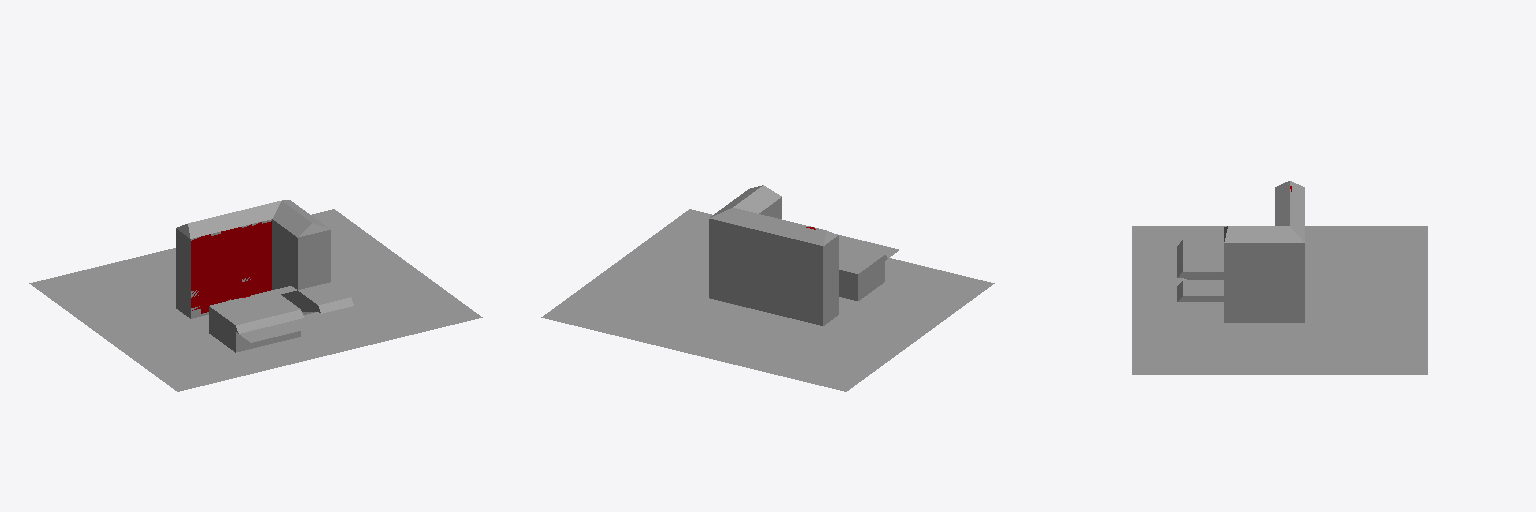
The model's file is unaltre.obj.
3 views of the same model, side by side, from view 1: azimuth 30°, elevation 25°; view 2: azimuth 150°, elevation 25°; view 3: azimuth 270°, elevation 25° (orthographic).
Visible parts, largest first — view 1: Cube.001; view 2: Cube.001; view 3: Cube.001.
Boxes of the visible parts, box(x1,y1,x2,y2) form: Cube.001: box(29, 200, 482, 391); Cube.001: box(541, 185, 994, 391); Cube.001: box(1132, 181, 1427, 374).
Bounding box in the file's own units: 73.07 × 20.39 × 61.53.